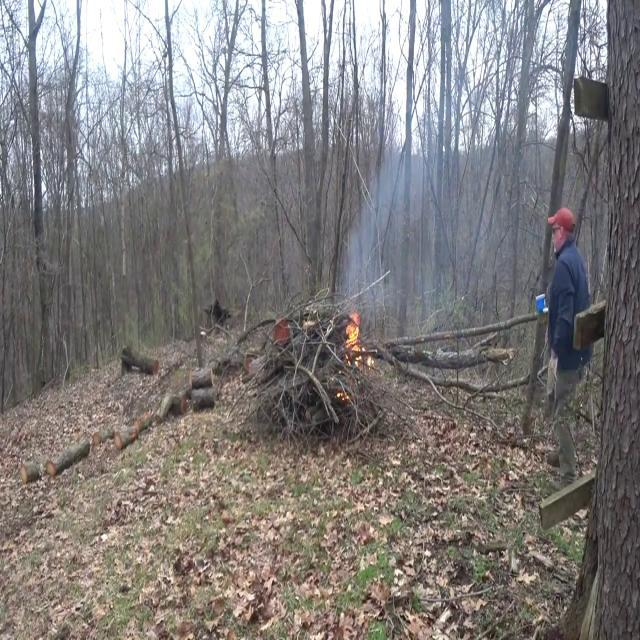Fire: (340, 310, 368, 366)
Smoke: (334, 119, 440, 336)
